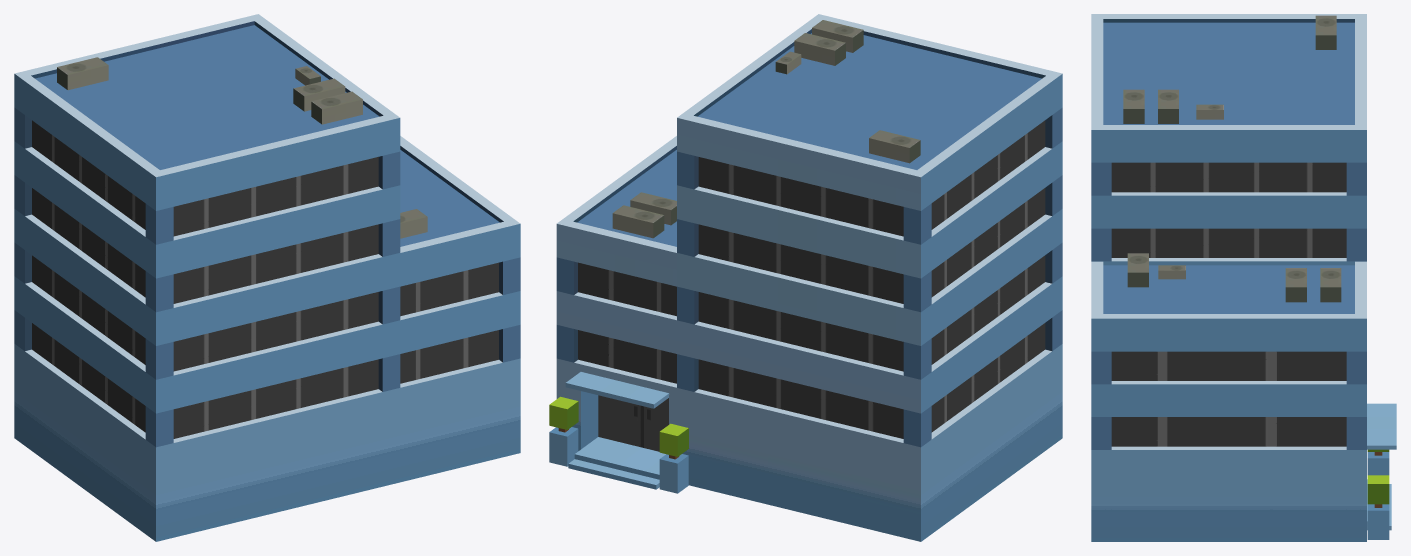
Rendered from office.glb.
3 views of the same model, side by side, from view 1: azimuth 30°, elevation 25°; view 2: azimuth 150°, elevation 25°; view 3: azimuth 270°, elevation 25° (orthographic). The views are drawn at different scales.
Parts seen in each view (by area): view 1: Office_Stepped; view 2: Office_Stepped; view 3: Office_Stepped.
Boxes of the visible parts, x1,y1,x2,y2 form: Office_Stepped: (14, 14, 520, 541); Office_Stepped: (549, 14, 1062, 541); Office_Stepped: (1091, 14, 1396, 541).
Size of what is drawn, in the model's own units: 14.2 by 14 by 10.59.
1 material, 1 textured.
